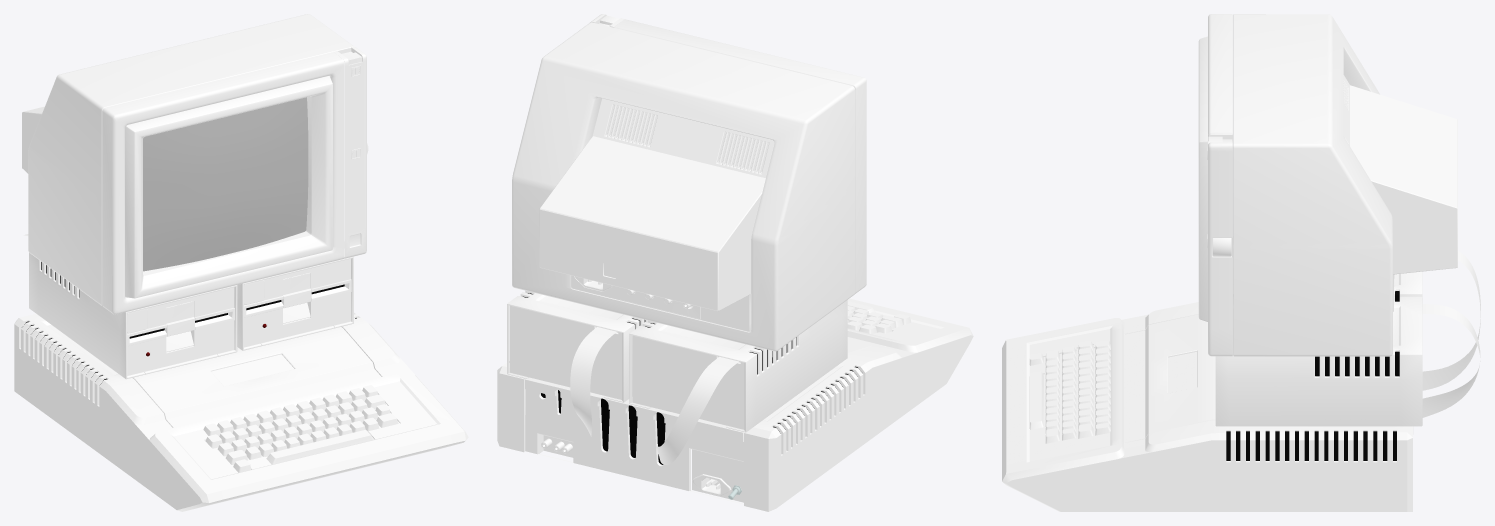
3 renders of one model, left to right at view 1: azimuth 30°, elevation 25°; view 2: azimuth 150°, elevation 25°; view 3: azimuth 270°, elevation 25°, orthographic. The views are drawn at different scales.
Parts seen in each view (by area): view 1: Cube.027; view 2: Cube.027; view 3: Cube.027.
Boxes of the visible parts, x1,y1,x2,y2 form: Cube.027: (14,14,468,511); Cube.027: (497,14,973,511); Cube.027: (1002,14,1480,511).
Size of the model in its own units: 1.56 by 1.92 by 2.28.
13 materials, 10 textured.
